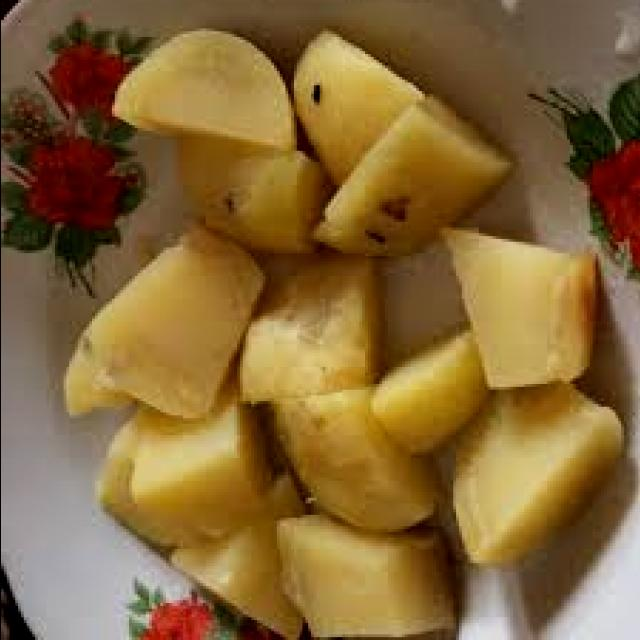kentang rebus: (290, 31, 512, 256), (97, 401, 307, 594), (63, 225, 265, 421), (435, 378, 626, 572), (441, 228, 600, 390), (111, 28, 299, 154), (276, 512, 458, 640), (276, 387, 435, 532), (239, 256, 381, 404)
